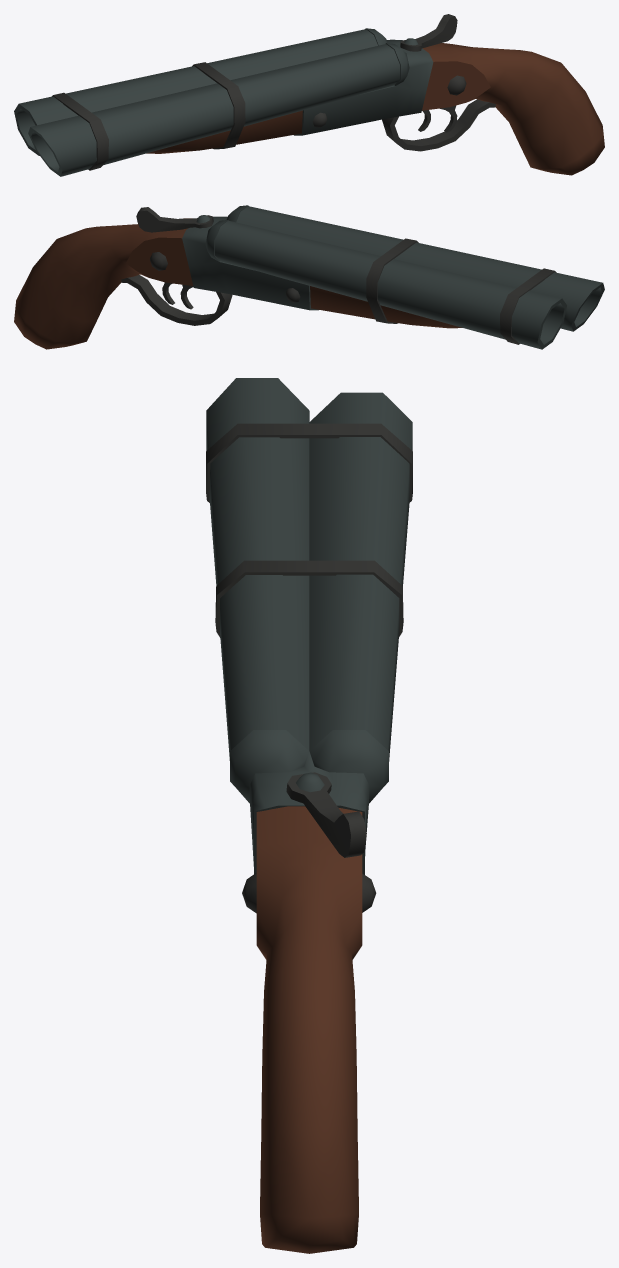
Rendered from uploads_files_3794577_Shotgun.glb.
3 renders of one model, top to bottom at view 1: azimuth 30°, elevation 25°; view 2: azimuth 150°, elevation 25°; view 3: azimuth 270°, elevation 25°, orthographic. The views are drawn at different scales.
Visible parts, largest first — view 1: shotgun; view 2: shotgun; view 3: shotgun.
Boxes of the visible parts, x1,y1,x2,y2 form: shotgun: (14, 14, 604, 176); shotgun: (14, 205, 604, 349); shotgun: (206, 378, 412, 1253).
Bounding box in the file's own units: 0.4945 × 0.1461 × 0.078.
Materials: 1 (1 with a texture image).
